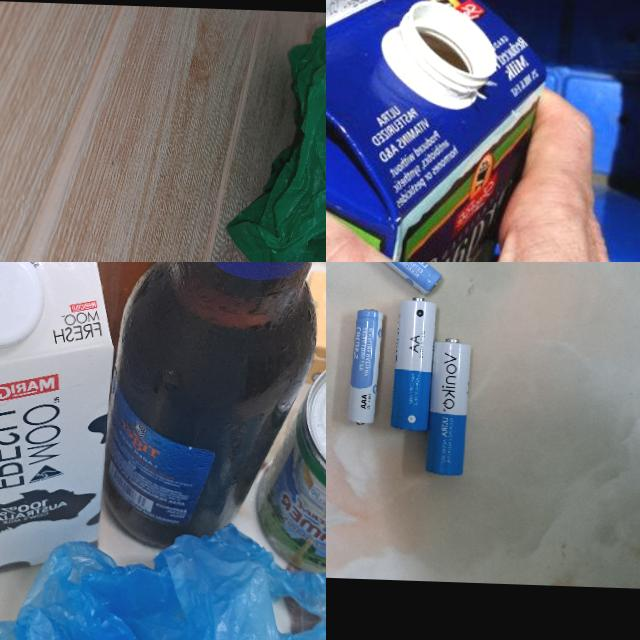bateria: (425, 336, 472, 476), (390, 295, 436, 431), (346, 308, 384, 427), (340, 262, 444, 296)
caixinha: (326, 0, 550, 262), (0, 262, 121, 589), (285, 262, 326, 382)
garrafa de vidro: (105, 262, 326, 553), (68, 262, 202, 354)
lata: (251, 346, 326, 574)
sacola plástica: (0, 513, 326, 640), (217, 20, 326, 262)
